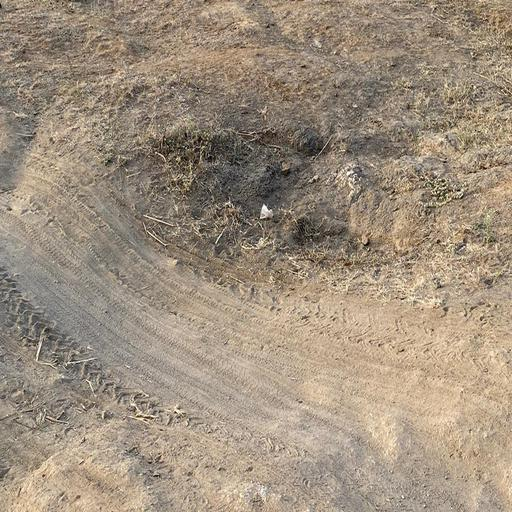vehicle_track: (0, 135, 512, 512)
